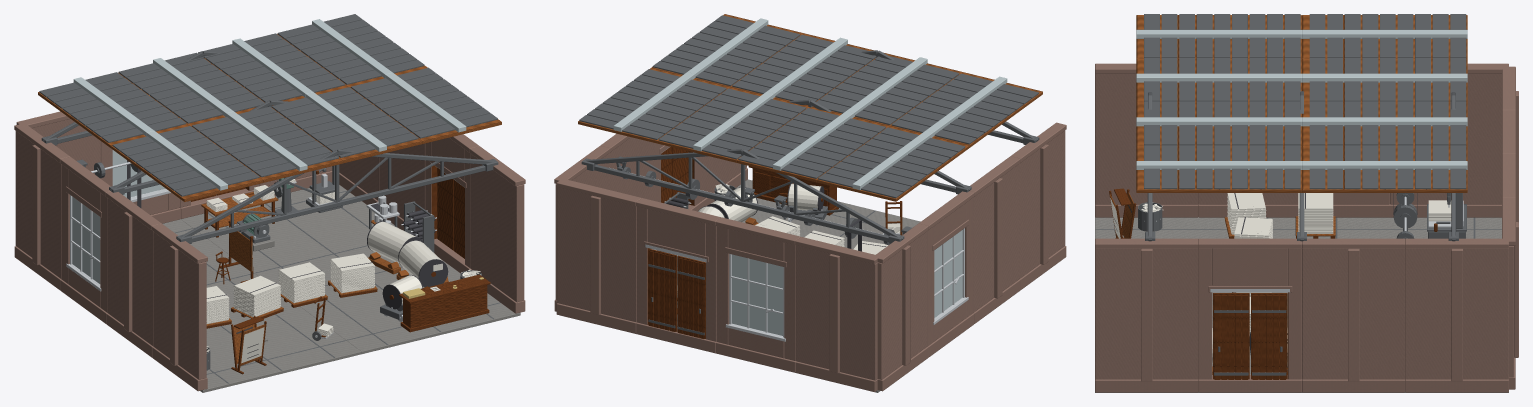
The model's file is printing-press-and-newspaper-office-dispatch-bay-and-r-9ee39f84__37779.glb.
3 views of the same model, side by side, from view 1: azimuth 30°, elevation 25°; view 2: azimuth 150°, elevation 25°; view 3: azimuth 270°, elevation 25° (orthographic). The views are drawn at different scales.
Parts seen in each view (by area): view 1: 011-brick-wall-bay/0, 015-brick-wall-bay/0, 001-works-floor-tile/0, 010-brick-wall-bay/0, 008-brick-wall-bay/0, 002-works-floor-tile/0, 003-works-floor-tile/0, 026-roof-deck-bay/1, 019-roof-deck-bay/1, 022-roof-deck-bay/1, 023-roof-deck-bay/1, 018-roof-truss-bay/0 (+50 smaller); view 2: 004-brick-wall-bay/0, 007-brick-wall-bay/0, 008-brick-wall-bay/0, 005-window-wall-bay/0, 010-brick-wall-bay/0, 011-brick-wall-bay/0, 006-door-wall-bay/0, 016-roof-truss-bay/0, 019-roof-deck-bay/1, 022-roof-deck-bay/1, 023-roof-deck-bay/1, 026-roof-deck-bay/1 (+36 smaller); view 3: 013-brick-wall-bay/0, 015-brick-wall-bay/0, 012-brick-wall-bay/0, 014-door-wall-bay/0, 011-brick-wall-bay/0, 008-brick-wall-bay/0, 022-roof-deck-bay/1, 020-roof-deck-bay/1, 021-roof-deck-bay/1, 026-roof-deck-bay/1, 025-roof-deck-bay/1, 024-roof-deck-bay/1 (+39 smaller).
Part boxes in pixels (x1,y1,x2,y2): 011-brick-wall-bay/0: (152,224,207,391); 015-brick-wall-bay/0: (469,146,525,313); 001-works-floor-tile/0: (181,182,397,282); 010-brick-wall-bay/0: (106,191,161,357); 008-brick-wall-bay/0: (14,123,69,289); 002-works-floor-tile/0: (200,293,361,392); 003-works-floor-tile/0: (277,256,520,353); 026-roof-deck-bay/1: (351,67,497,138); 019-roof-deck-bay/1: (39,72,186,142); 022-roof-deck-bay/1: (277,14,424,84); 023-roof-deck-bay/1: (112,126,259,196); 018-roof-truss-bay/0: (176,149,498,243); 004-brick-wall-bay/0: (795,237,877,391); 007-brick-wall-bay/0: (556,179,641,333); 008-brick-wall-bay/0: (873,223,928,391); 005-window-wall-bay/0: (715,217,800,372); 010-brick-wall-bay/0: (970,156,1020,323); 011-brick-wall-bay/0: (1011,122,1066,290); 006-door-wall-bay/0: (636,198,720,353); 016-roof-truss-bay/0: (581,149,904,243); 019-roof-deck-bay/1: (818,127,965,198); 022-roof-deck-bay/1: (579,69,726,139); 023-roof-deck-bay/1: (891,73,1038,144); 026-roof-deck-bay/1: (652,15,800,86); 013-brick-wall-bay/0: (1302,238,1405,392); 015-brick-wall-bay/0: (1095,238,1198,392); 012-brick-wall-bay/0: (1405,238,1508,392); 014-door-wall-bay/0: (1198,238,1301,392); 011-brick-wall-bay/0: (1095,63,1198,217); 008-brick-wall-bay/0: (1411,63,1508,217); 022-roof-deck-bay/1: (1309,145,1466,189); 020-roof-deck-bay/1: (1309,57,1466,101); 021-roof-deck-bay/1: (1309,101,1466,145); 026-roof-deck-bay/1: (1144,145,1300,189); 025-roof-deck-bay/1: (1144,101,1300,145); 024-roof-deck-bay/1: (1144,57,1300,101).
Size of the model in its own units: 12.58 by 6.72 by 12.29.
Materials: 12 (4 with a texture image).
